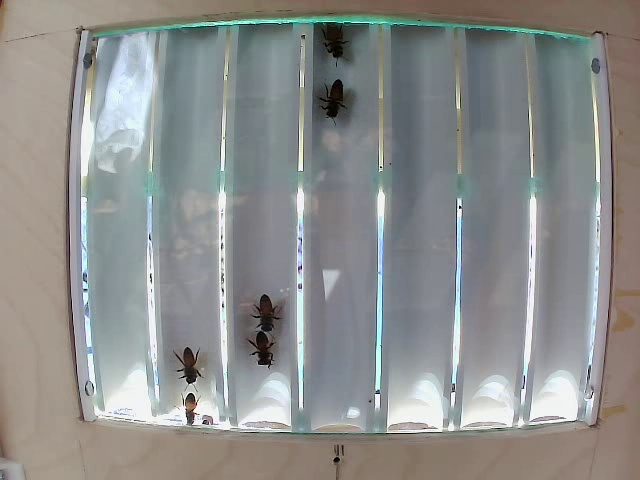bee: (242, 281, 298, 337), (312, 69, 354, 120), (240, 329, 284, 374), (314, 17, 347, 71), (171, 334, 208, 378)
